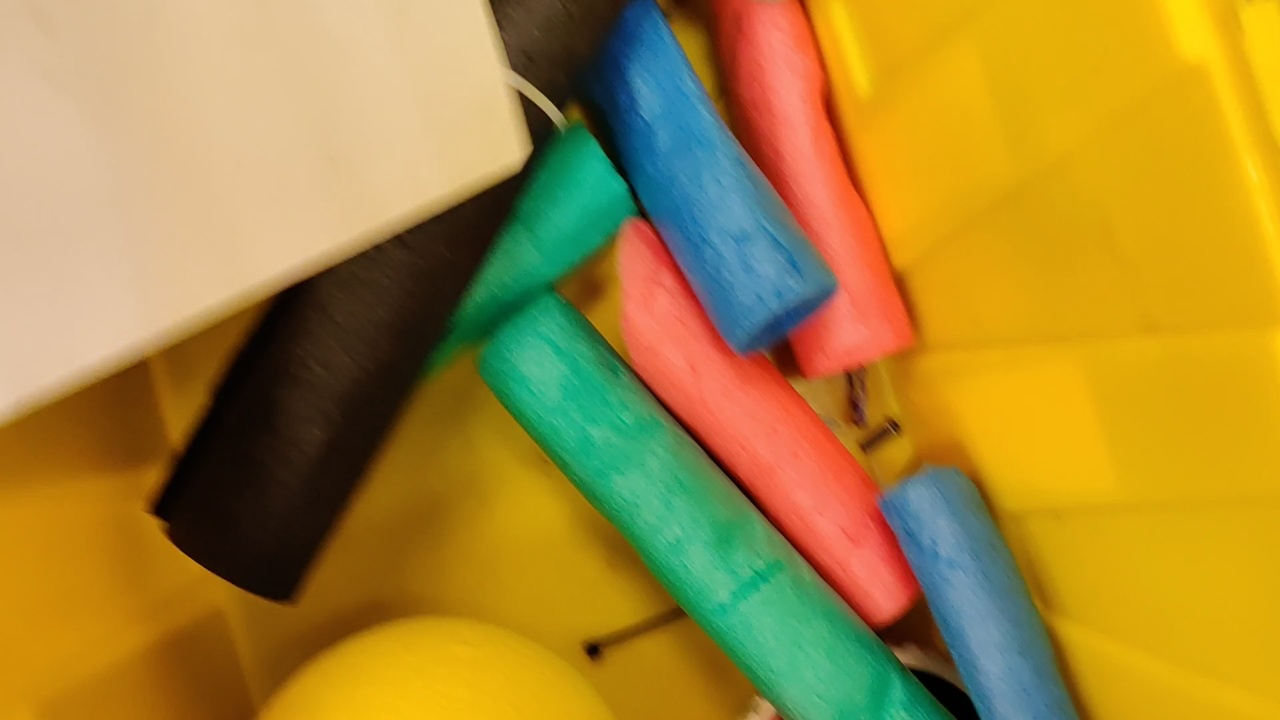Ball: (248, 613, 611, 718)
